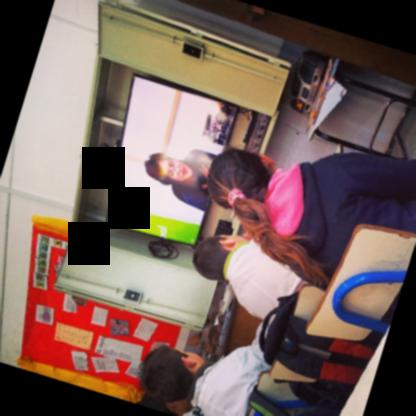backpack: (258, 288, 377, 380), (252, 385, 341, 416)
